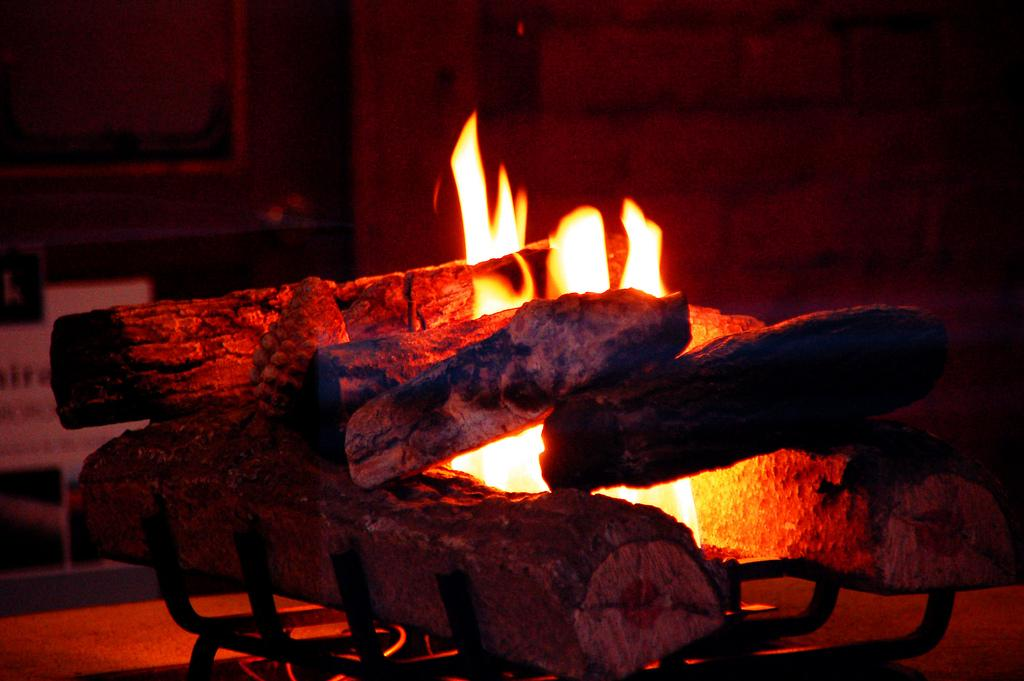fire: (460, 127, 547, 307), (560, 208, 672, 300), (467, 433, 558, 482), (677, 467, 717, 533)
